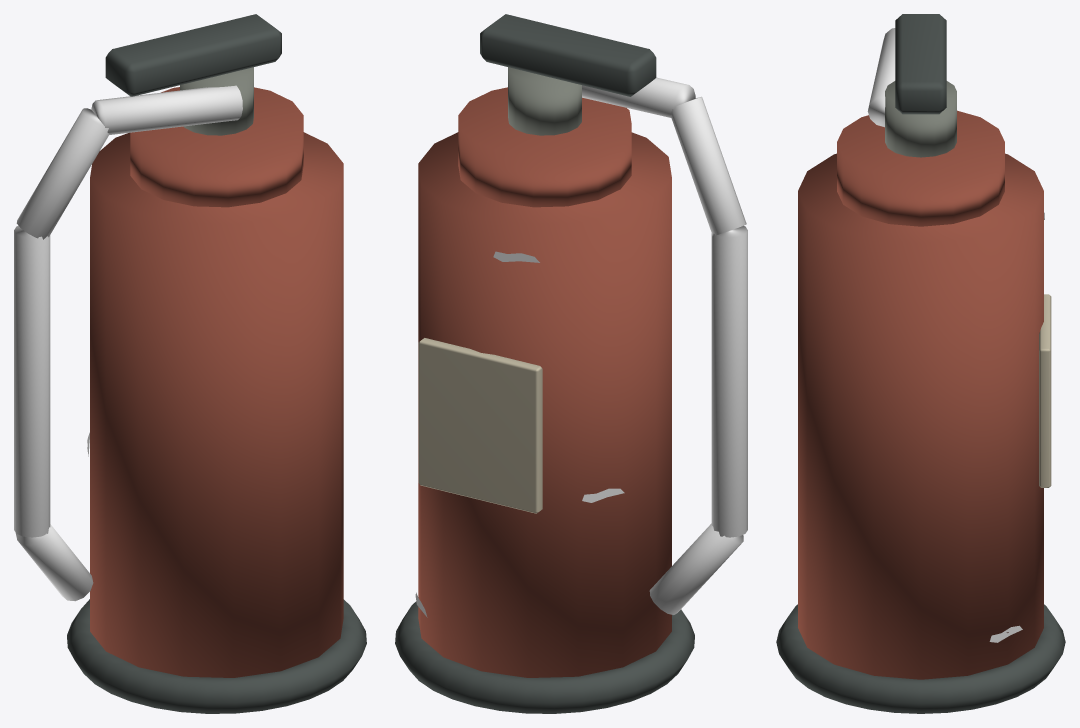
File: Reuse_FireExtinguisher02.fbx
The picture shows the model from 3 angles, left to right: view 1: azimuth 30°, elevation 25°; view 2: azimuth 150°, elevation 25°; view 3: azimuth 270°, elevation 25°; orthographic projection. The views are drawn at different scales.
Visible parts, largest first — view 1: Reuse_FireExtinguisher02; view 2: Reuse_FireExtinguisher02; view 3: Reuse_FireExtinguisher02.
Part boxes in pixels (x1,y1,x2,y2): Reuse_FireExtinguisher02: (14,14,366,713); Reuse_FireExtinguisher02: (395,14,747,713); Reuse_FireExtinguisher02: (776,14,1065,713).
Bounding box in the file's own units: 35.8 × 64.31 × 28.2.
